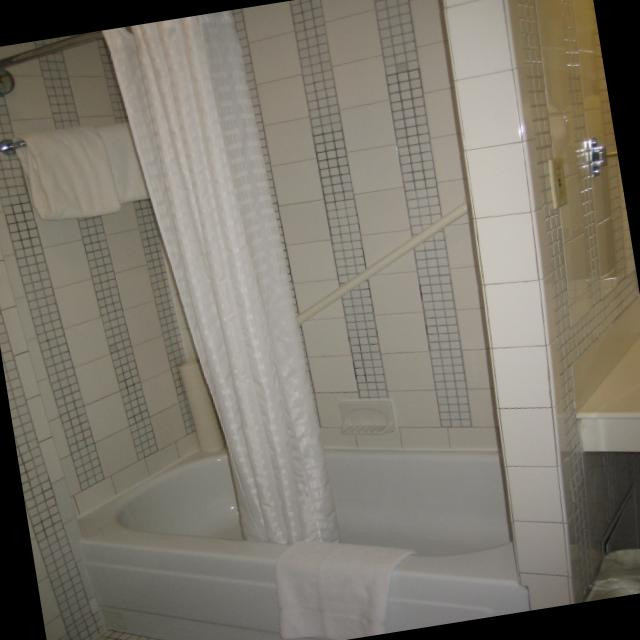bathtub: (78, 451, 529, 640)
curtain crop: (103, 11, 343, 544)
oulet: (548, 158, 569, 208)
wall clock: (125, 0, 501, 452), (0, 28, 206, 640)
